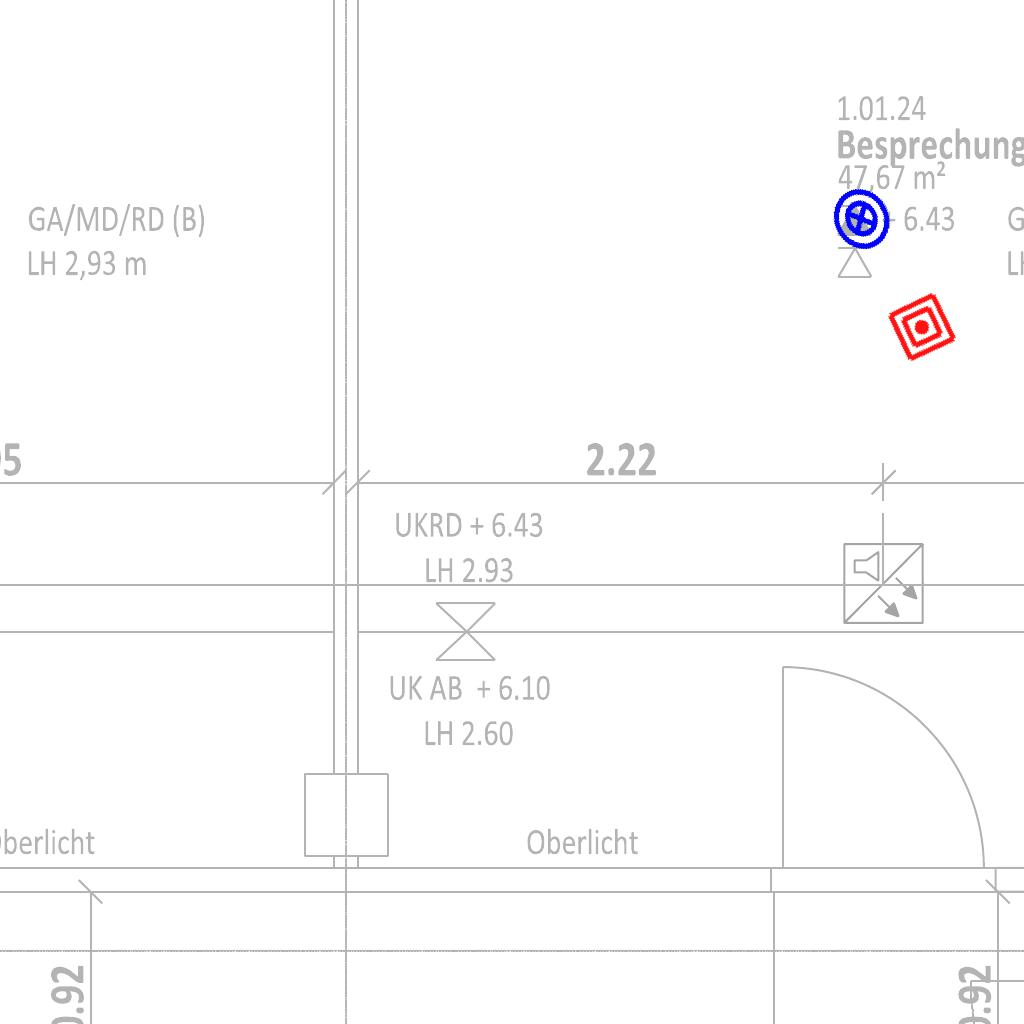NAM-Nichtautomatischer_Melder: (884, 289, 960, 365)
Taster_beleuchtet: (816, 174, 906, 264)
